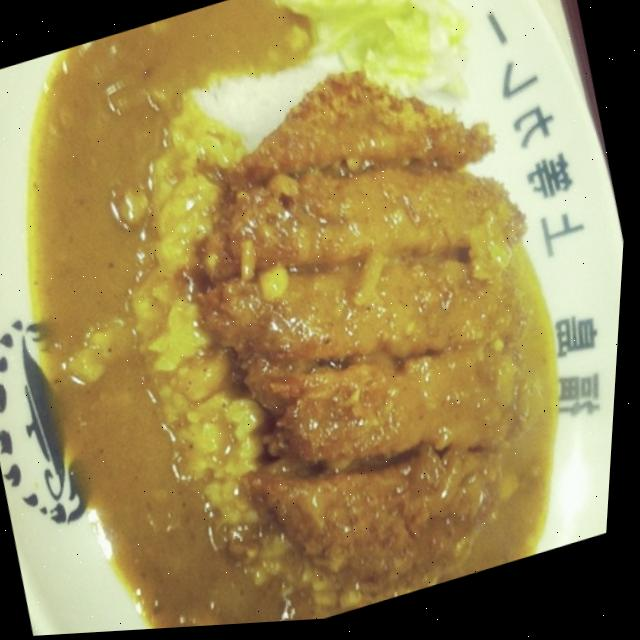炸货点心: (117, 20, 628, 633)
